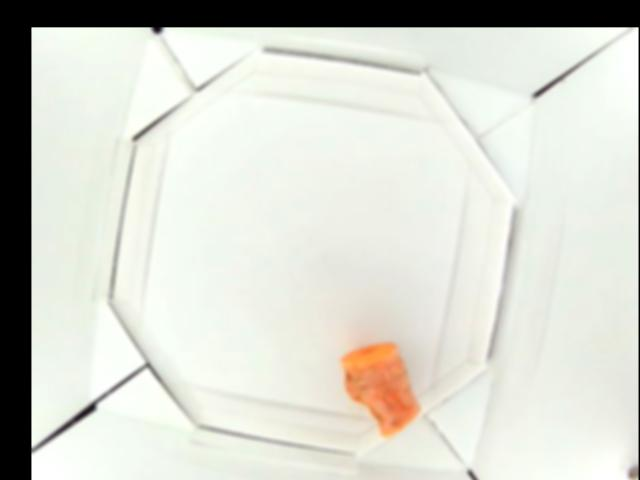Carrot: (343, 346, 419, 433)
